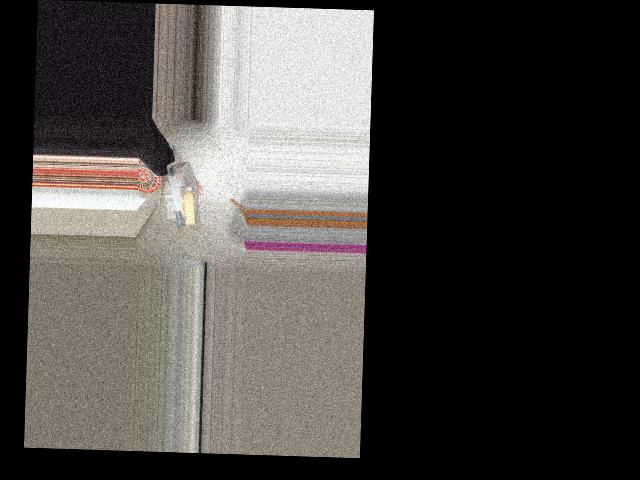cheese: (162, 158, 200, 227)
